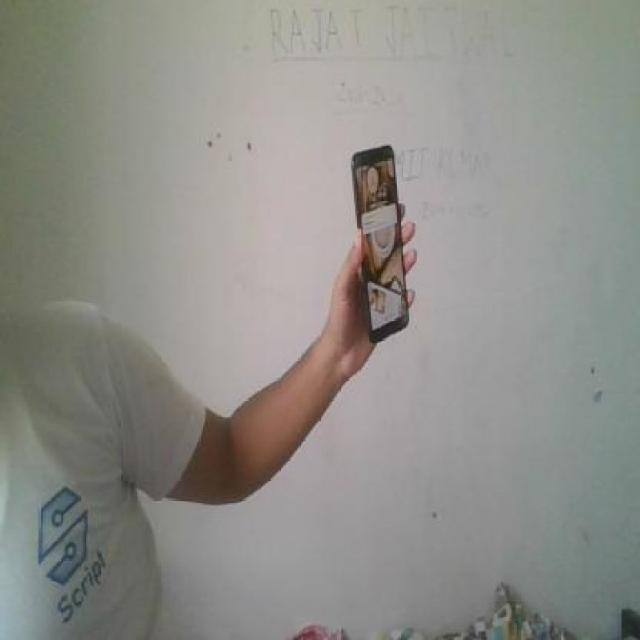Phone: (348, 141, 411, 346)
